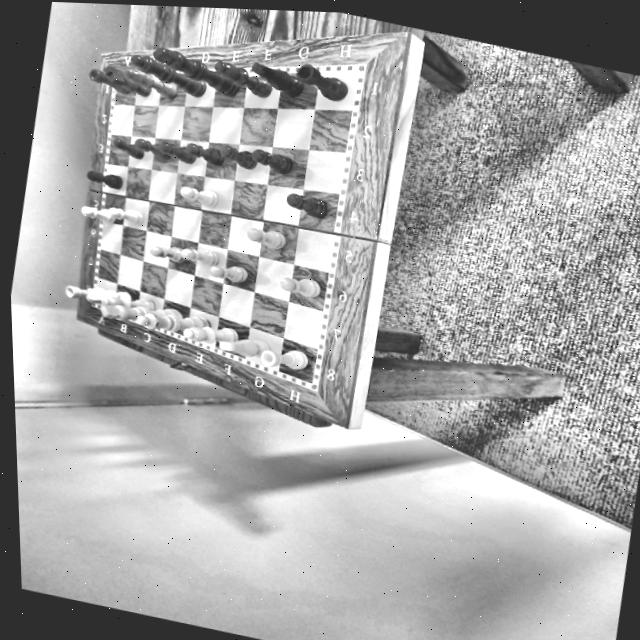black-bishop: (209, 55, 275, 99), (121, 65, 182, 102)
black-king: (146, 40, 246, 100)
black-knight: (245, 56, 306, 99), (100, 62, 155, 99)
black-pawn: (280, 188, 335, 226), (247, 144, 296, 179), (180, 138, 228, 171), (215, 140, 260, 173), (130, 133, 174, 161), (156, 138, 198, 167), (84, 165, 127, 193), (108, 134, 147, 161)
black-queen: (126, 47, 211, 99)
black-rook: (291, 58, 352, 105), (87, 65, 132, 95)
white-bishop: (179, 315, 245, 353), (100, 287, 157, 316)
white-king: (99, 291, 183, 333)
white-knight: (215, 326, 274, 367), (83, 283, 132, 311)
white-pawn: (275, 267, 326, 302), (176, 182, 224, 213), (243, 223, 290, 252), (206, 258, 252, 287), (146, 240, 191, 267), (179, 243, 223, 269), (78, 201, 120, 228), (105, 202, 147, 229)
white-queen: (133, 300, 215, 346)
white-rook: (256, 337, 313, 378), (62, 279, 104, 306)
